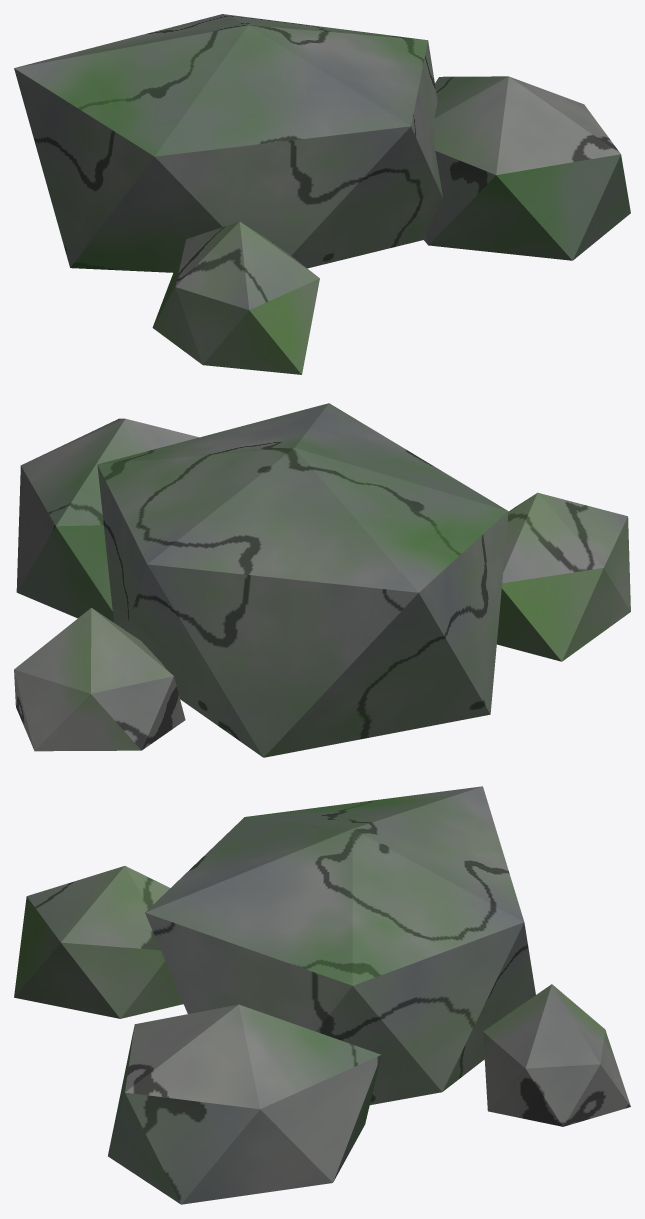
File: rock_cluster.glb
3 renders of one model, top to bottom at view 1: azimuth 30°, elevation 25°; view 2: azimuth 150°, elevation 25°; view 3: azimuth 270°, elevation 25°, orthographic. The views are drawn at different scales.
Visible parts, largest first — view 1: rock_cluster__stone; view 2: rock_cluster__stone; view 3: rock_cluster__stone.
Part boxes in pixels (left/top/right/bottom): rock_cluster__stone: left=14, top=14, right=630, bottom=374; rock_cluster__stone: left=14, top=403, right=630, bottom=757; rock_cluster__stone: left=14, top=786, right=630, bottom=1204.
Bounding box in the file's own units: 2.09 × 0.8838 × 2.17.
Materials: 1 (1 with a texture image).
